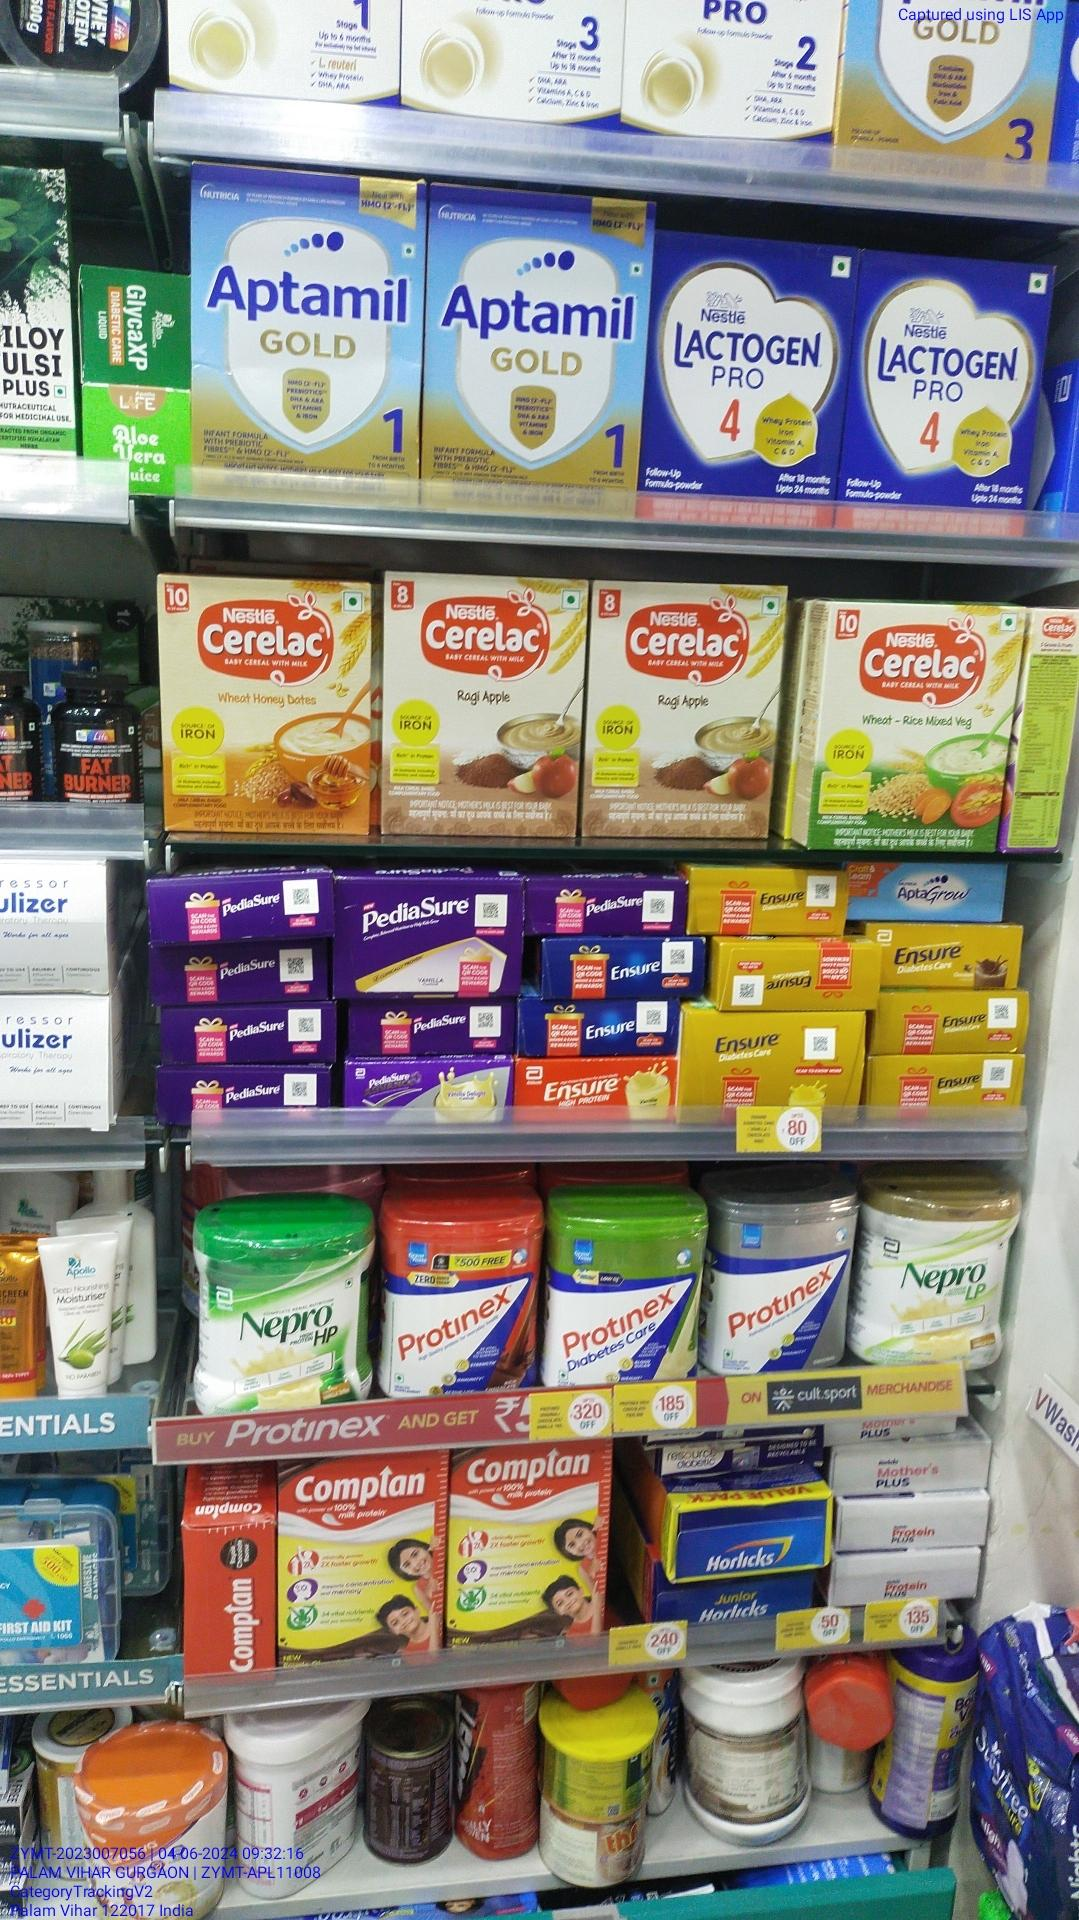PROTINEX_CHOCOLATE_400_G_JAR: (375, 1208, 534, 1394)
PROTINEX_ORIGINAL_400_G_JAR: (710, 1179, 855, 1373)
